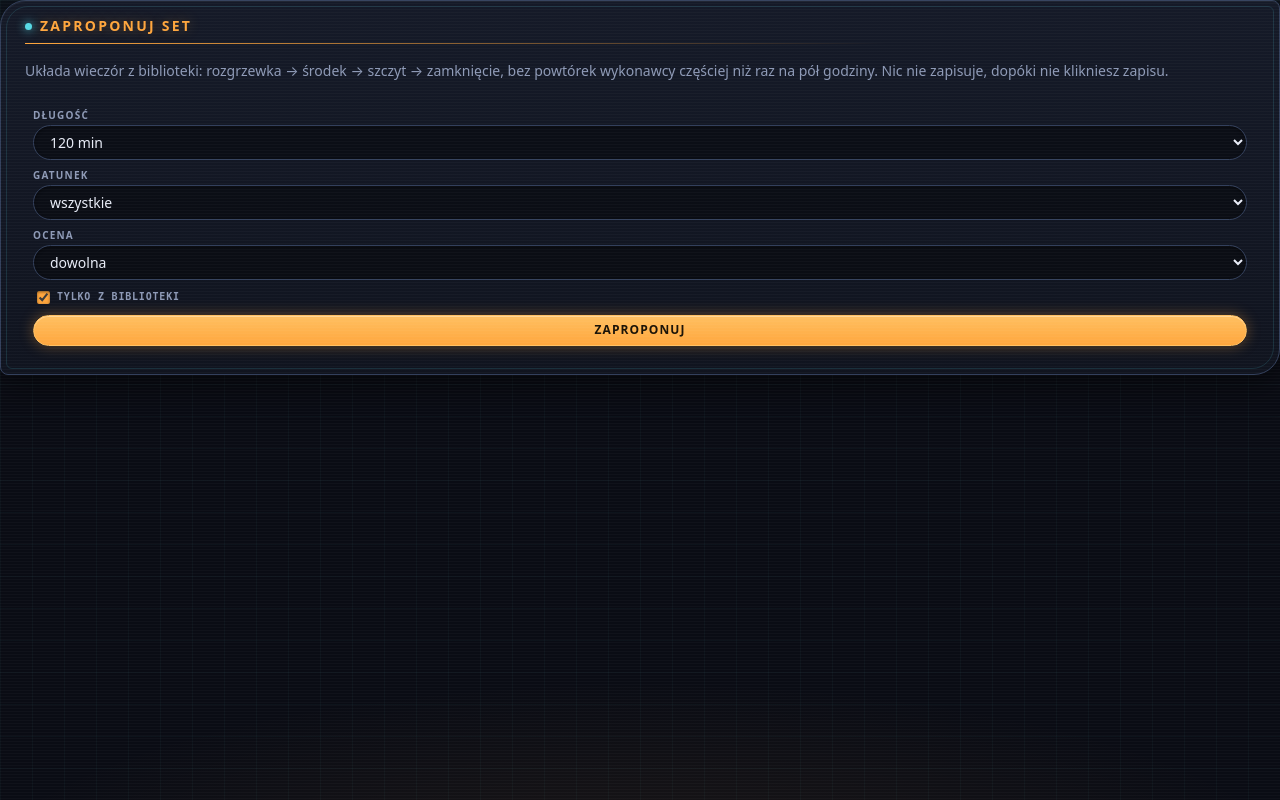
Test: SetGeneratorPanel › pokazuje propozycję z notatkami i nie zapisuje niczego z automatu
Click the button with test id "propose-set" at (640, 330), box [33, 315, 1247, 346]
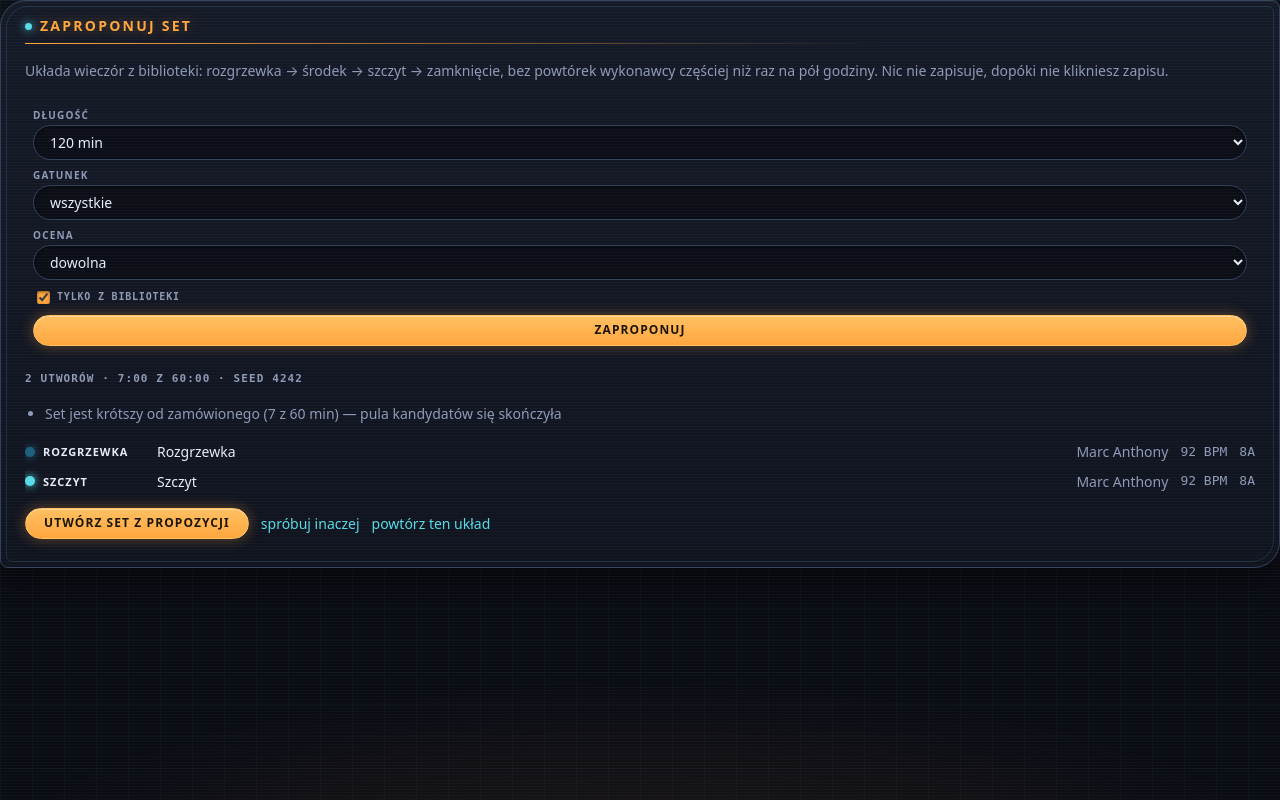
Expected: the element with test id "set-proposal" is shown, [25, 370, 1255, 539]
Expected: the text "Rozgrzewka" is shown, [157, 442, 236, 461]
Expected: the element with test id "proposal-notes" shows "krótszy", [45, 404, 562, 423]
